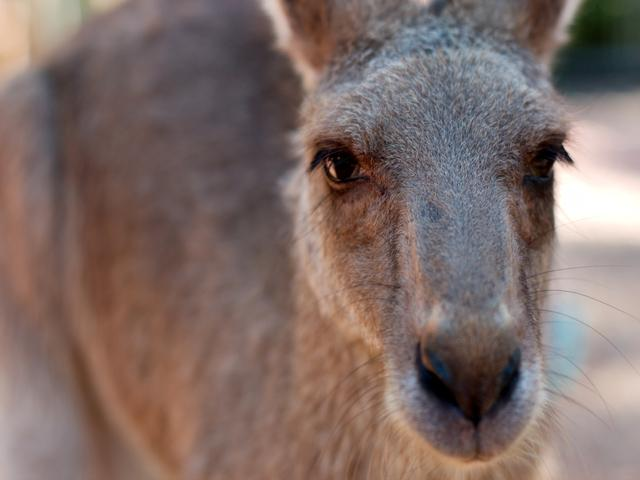kangaroo: (266, 18, 603, 472)
